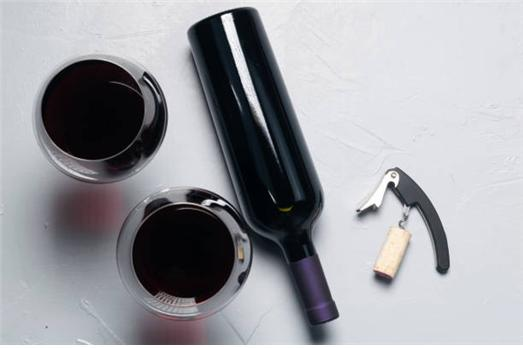alcohol: (186, 7, 340, 328), (115, 186, 252, 320), (32, 53, 168, 184)
